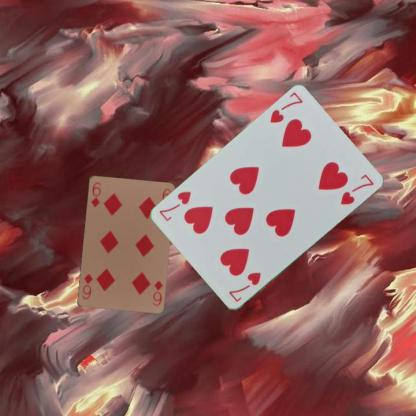6d: (150, 277, 164, 307), (88, 179, 102, 208)
7h: (267, 89, 304, 124), (226, 270, 262, 304)
